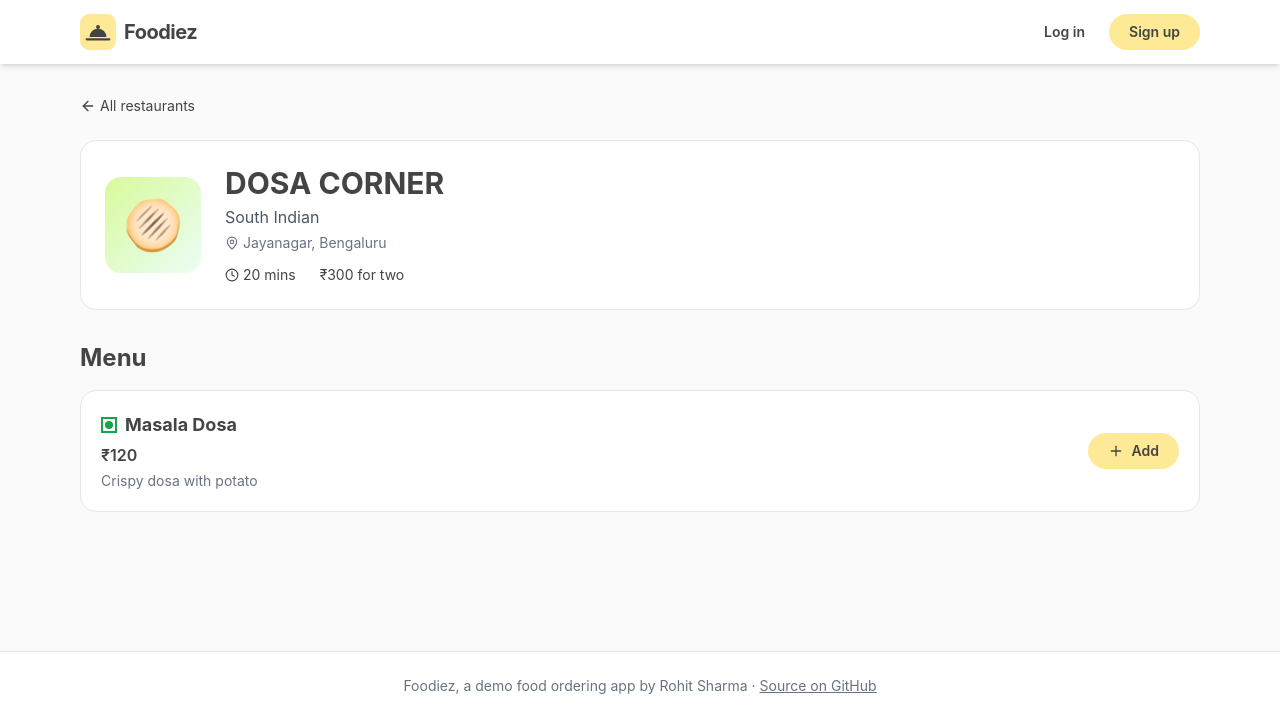
Test: restaurant page › shows the menu and asks logged-out visitors to log in before adding
The width and height of the screenshot is (1280, 720).
Expected: the list item "Masala Dosa" shows "₹120", x1=101 y1=445 x2=137 y2=465
What coordinates should you click on to do the following:
click the button "Add"
I would click on:
 (1133, 451)
Its box is x1=1088 y1=433 x2=1179 y2=469.
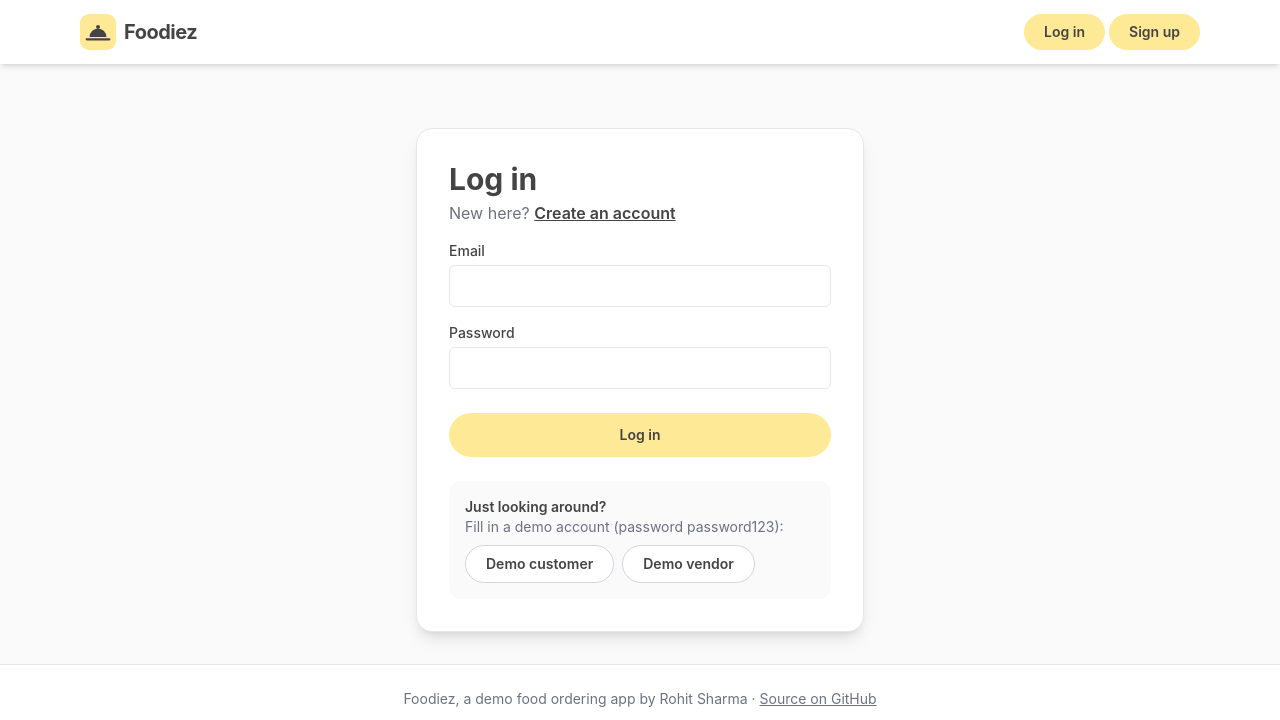
Now the heading "Log in" is shown, box x1=449 y1=161 x2=537 y2=197
